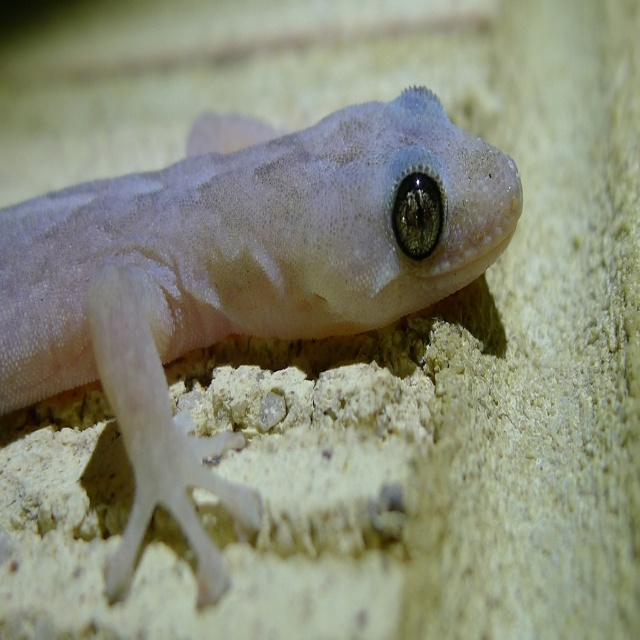Lizard: (23, 80, 507, 621)
